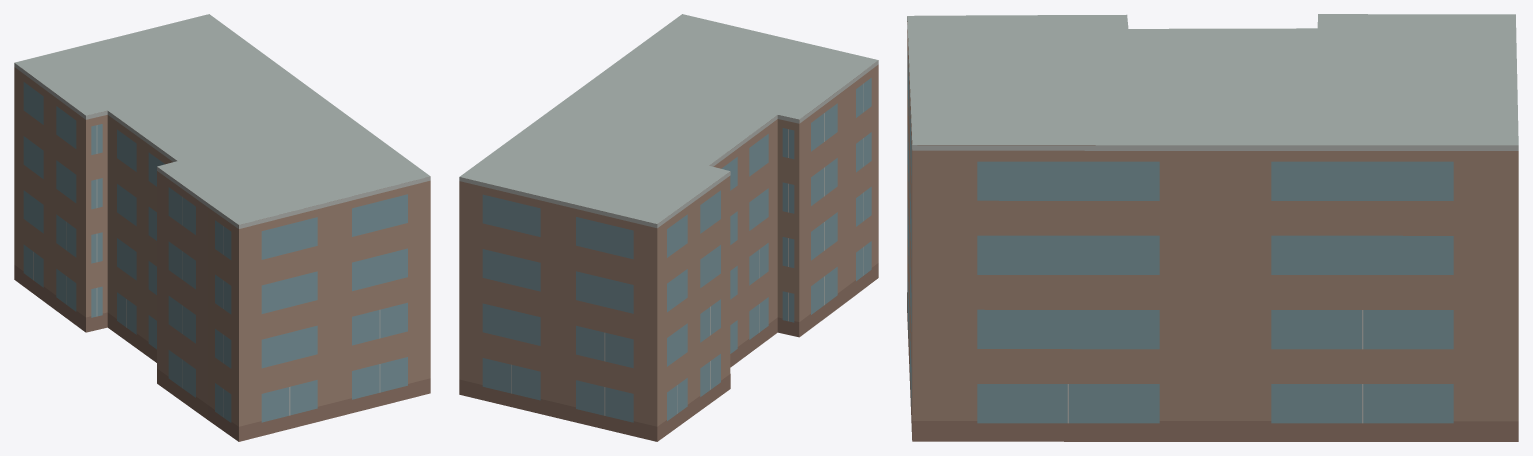
File: survey-upis-32532293.glb
The picture shows the model from 3 angles, left to right: view 1: azimuth 30°, elevation 25°; view 2: azimuth 150°, elevation 25°; view 3: azimuth 270°, elevation 25°; orthographic projection. The views are drawn at different scales.
Parts seen in each view (by area): view 1: survey-upis-32532293.tmp; view 2: survey-upis-32532293.tmp; view 3: survey-upis-32532293.tmp.
Part boxes in pixels (x1,y1,x2,y2): survey-upis-32532293.tmp: [14, 14, 430, 441]; survey-upis-32532293.tmp: [459, 14, 878, 441]; survey-upis-32532293.tmp: [907, 14, 1518, 441].
Bounding box in the file's own units: 12.06 × 12.7 × 23.74.
